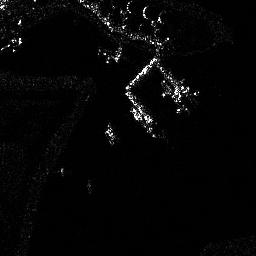ship: (161, 79, 188, 113), (128, 108, 156, 137)
